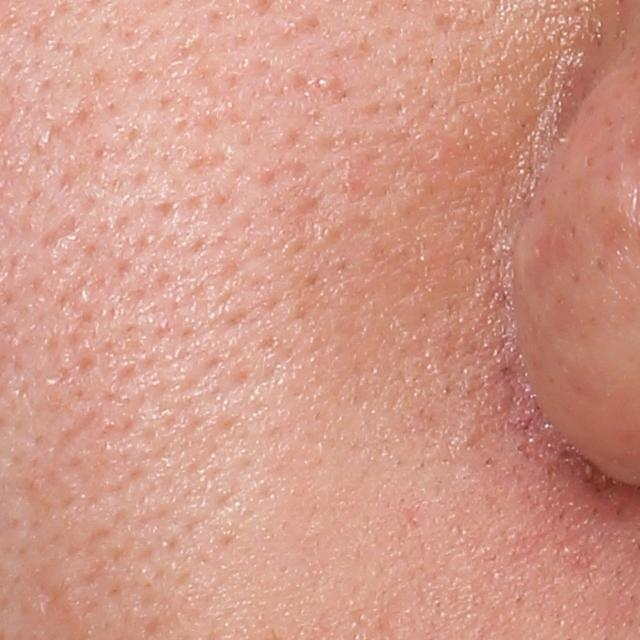atrophic_scar: (38, 212, 79, 252)
comedo: (309, 70, 332, 89)
